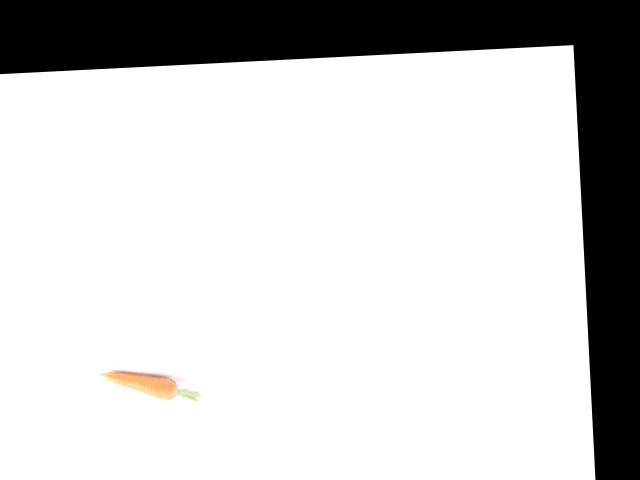carrot: (96, 359, 187, 412)
